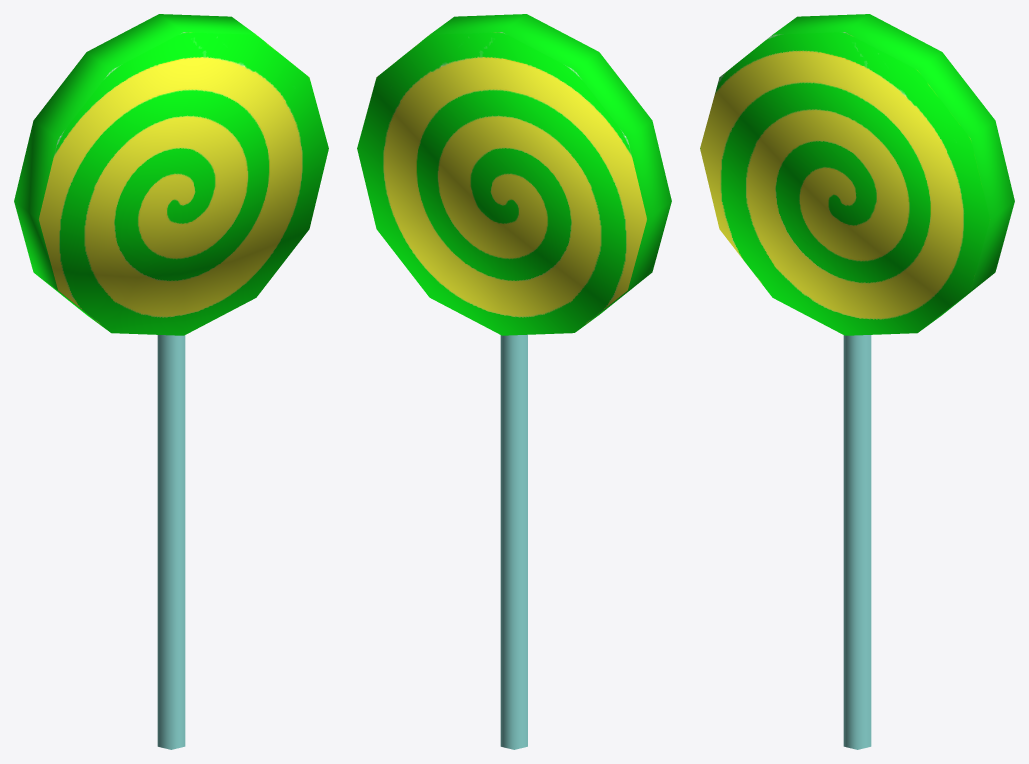
Rendered from candy2.FBX.
3 views of the same model, side by side, from view 1: azimuth 30°, elevation 25°; view 2: azimuth 150°, elevation 25°; view 3: azimuth 330°, elevation 25° (orthographic).
Visible parts, largest first — view 1: candy2; view 2: candy2; view 3: candy2.
Part boxes in pixels (x1,y1,x2,y2): candy2: (14,14,328,749); candy2: (357,14,671,749); candy2: (700,14,1014,749).
Size of the model in its own units: 36.06 by 85.52 by 5.32.
